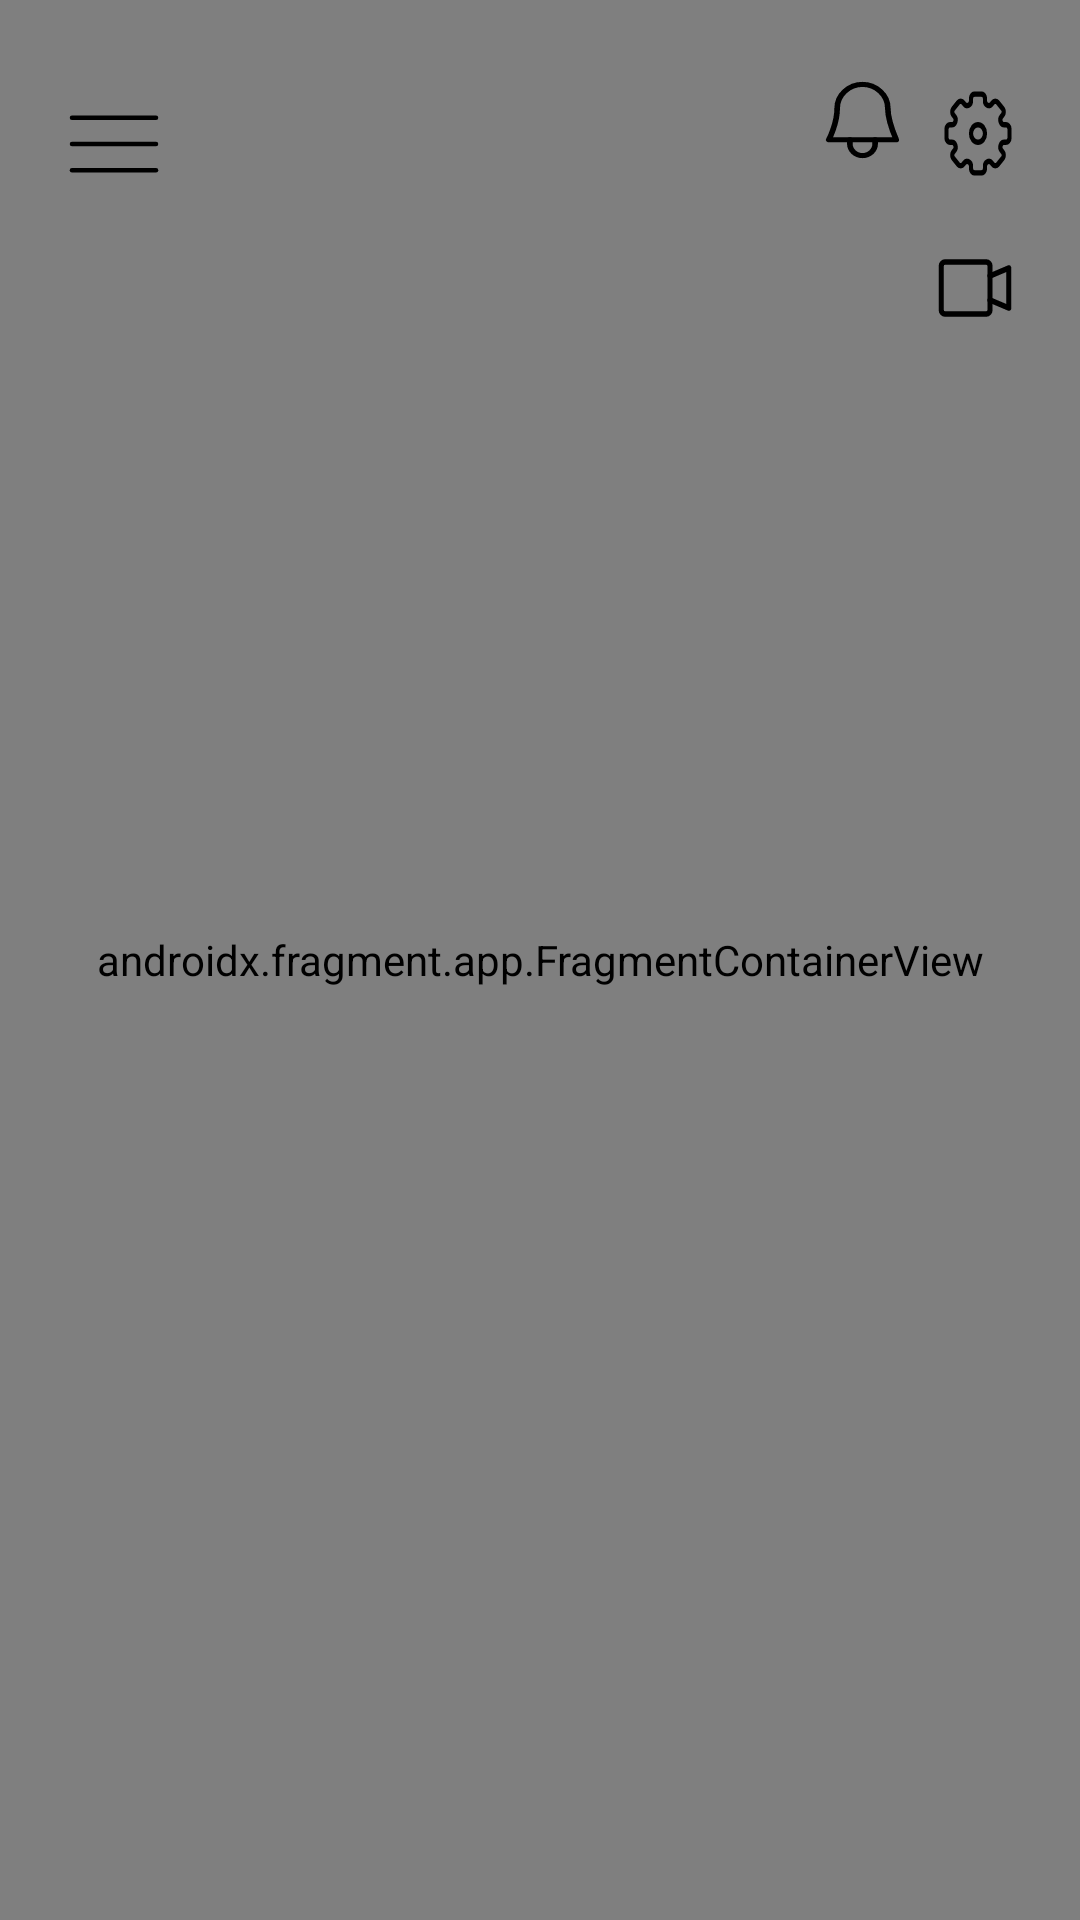

Where to tap for icons on this 1080 x 1920 app screen, as [x,y]:
bell: [862,120]
cam: [975,288]
menu: [114,144]
settings: [978,133]
